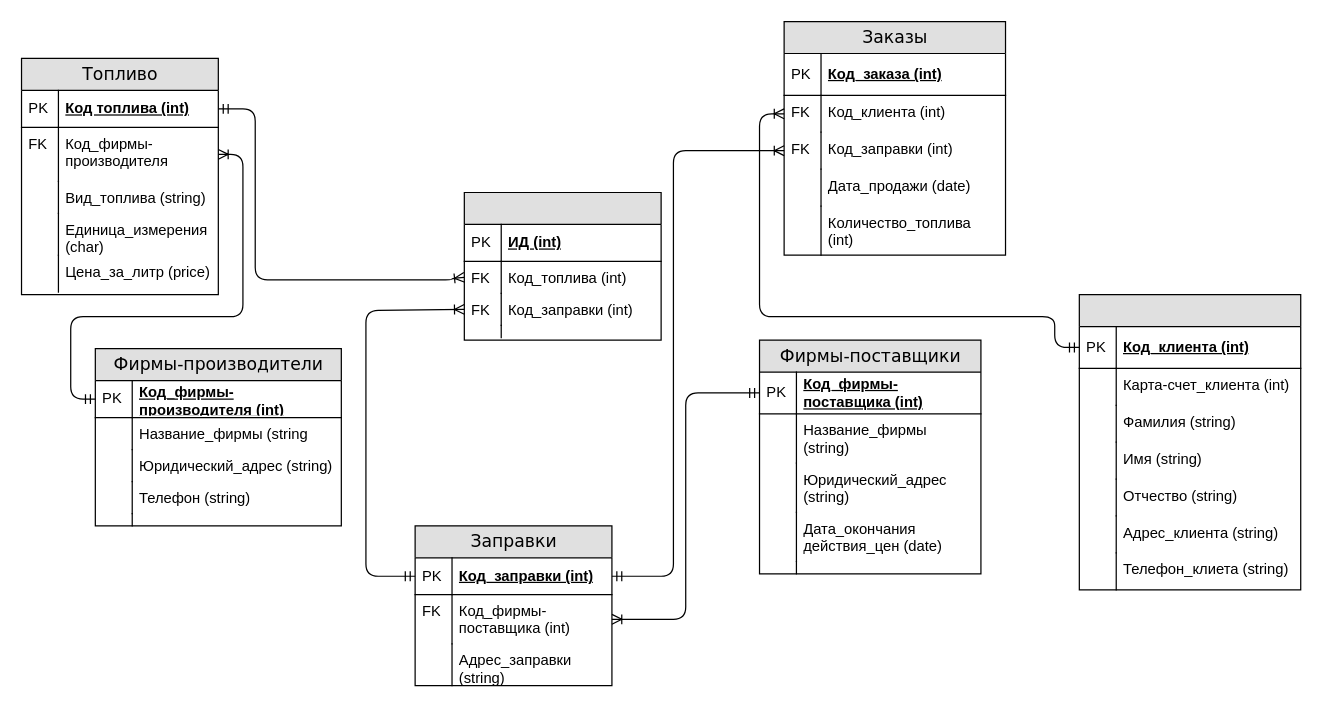
Some shapes in this 1322 by 711 pixel diagram are drawn without their labels. The shapes that lost their labels are listed below. From the top down, each one's box as (x1, y1, x2, y2) in pixels, then its label:
(463, 191, 661, 340): Топливо-заправка
(1078, 293, 1301, 590): Клиетны
